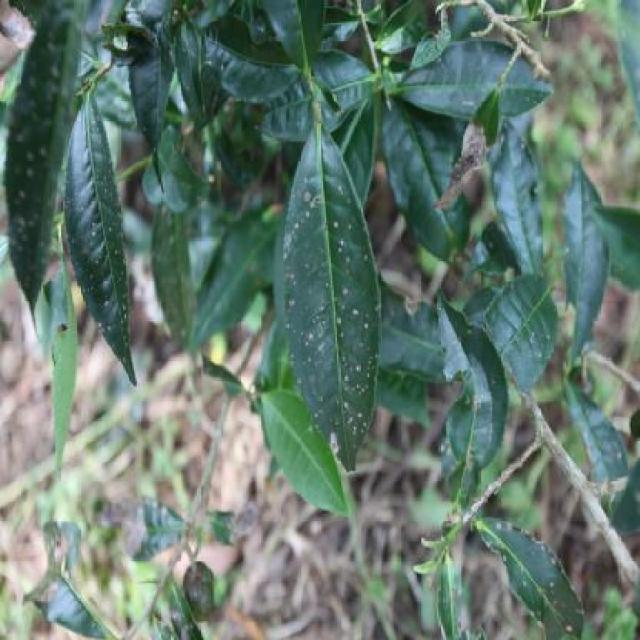Leaf rust of tea: (283, 108, 377, 474), (57, 94, 138, 389), (434, 298, 511, 470)
